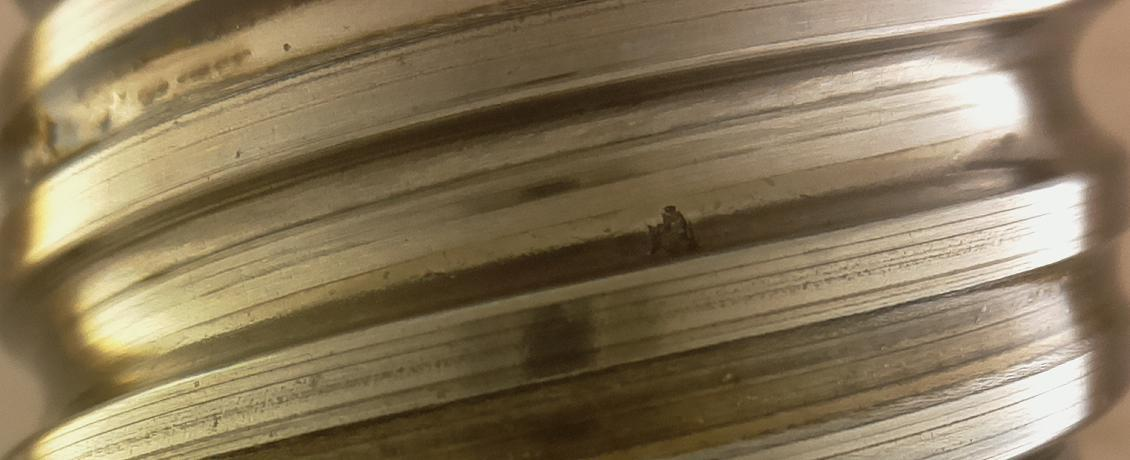pitting: (640, 205, 703, 257)
